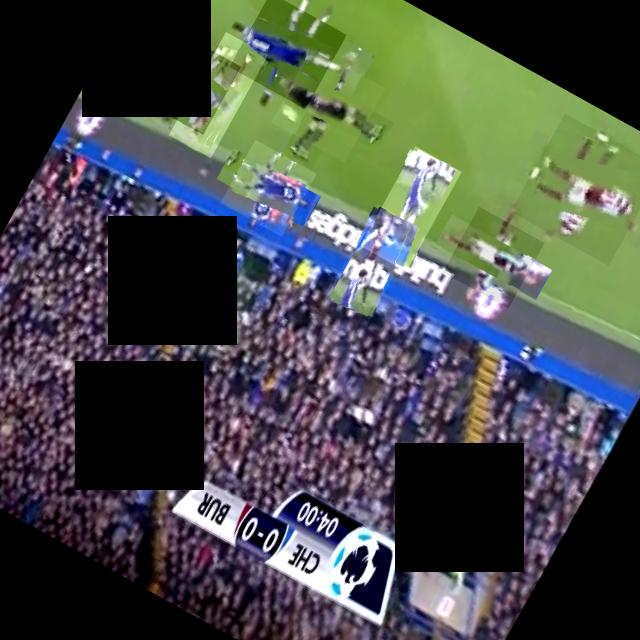referee: (270, 48, 386, 163)
soccer-player: (510, 114, 640, 266), (359, 146, 462, 272), (229, 0, 346, 109), (168, 33, 268, 158), (136, 30, 240, 136), (326, 204, 420, 320), (442, 207, 544, 309), (220, 140, 316, 237)
